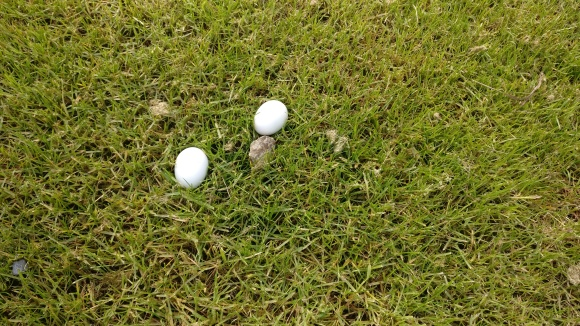egg: (173, 146, 209, 189), (253, 99, 289, 135)
